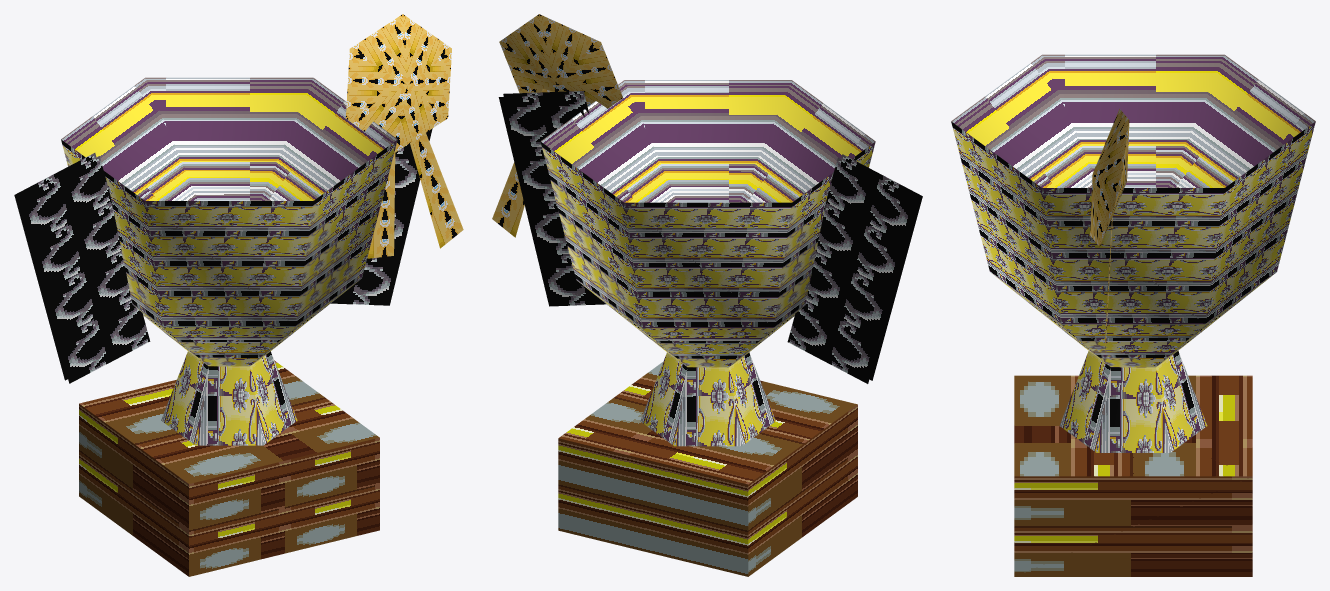
3 renders of one model, left to right at view 1: azimuth 30°, elevation 25°; view 2: azimuth 150°, elevation 25°; view 3: azimuth 270°, elevation 25°, orthographic. The views are drawn at different scales.
Parts seen in each view (by area): view 1: 5371kg3_tr01; view 2: 5371kg3_tr01; view 3: 5371kg3_tr01.
Boxes of the visible parts, x1,y1,x2,y2 form: 5371kg3_tr01: (14, 14, 463, 576); 5371kg3_tr01: (492, 14, 922, 576); 5371kg3_tr01: (951, 54, 1315, 576).
Bounding box in the file's own units: 0.7656 × 0.7649 × 0.5088.
Materials: 4 (4 with a texture image).
